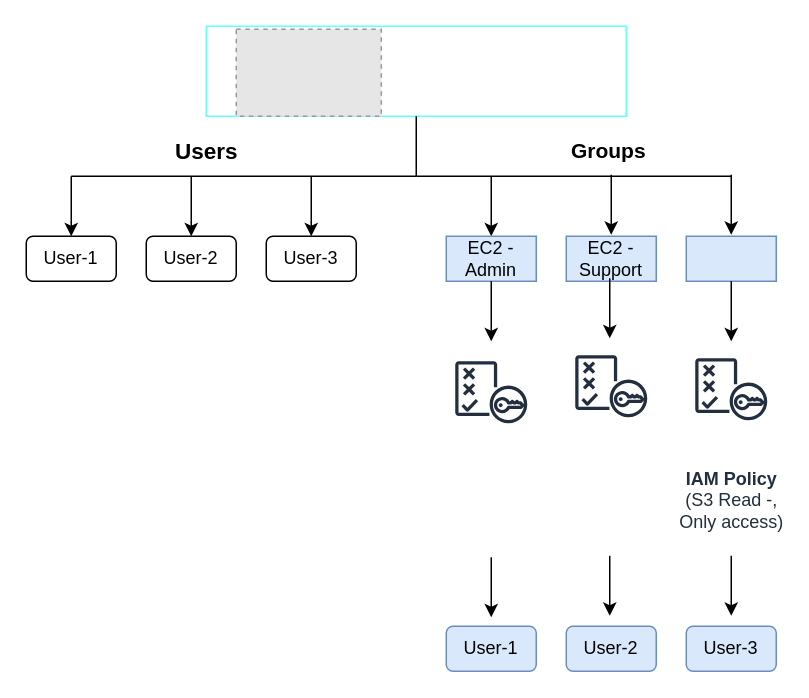
This 809x698 diagram has some shape labels left out. Grey dashed boxes stand in for pictures. Here are the shapes that lost their labels. From the top down, the box of each, then its label:
(205, 25, 626, 116): Account
(685, 235, 776, 281): S3 - Support
(445, 346, 536, 437): IAM Policy (EC2 View, Start and stop access)
(565, 340, 656, 431): IAM Policy (EC2 Read - Only access)
